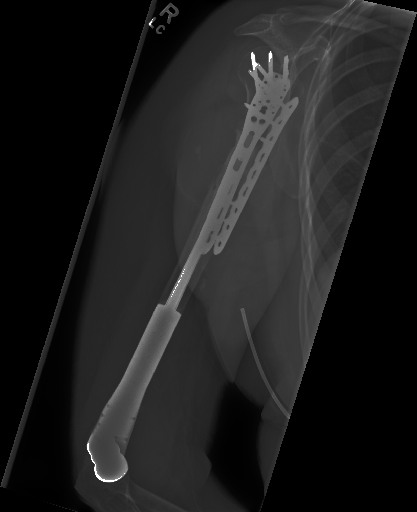implant: (195, 48, 300, 253), (90, 285, 187, 482)
